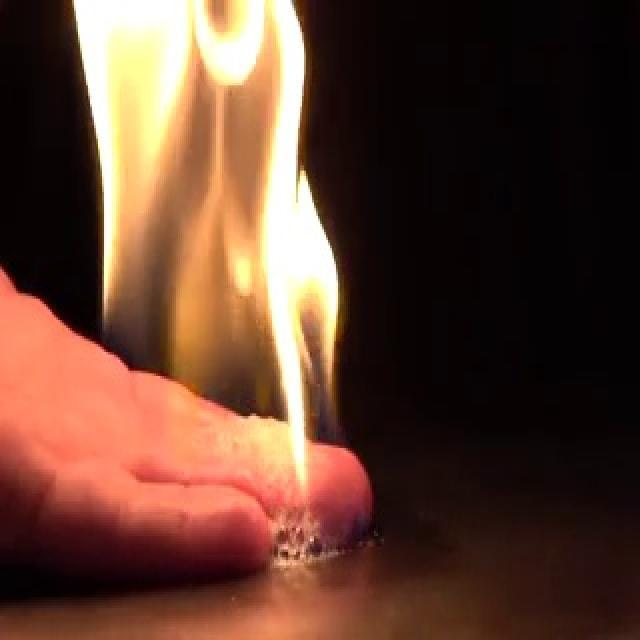fire: (63, 2, 331, 488)
